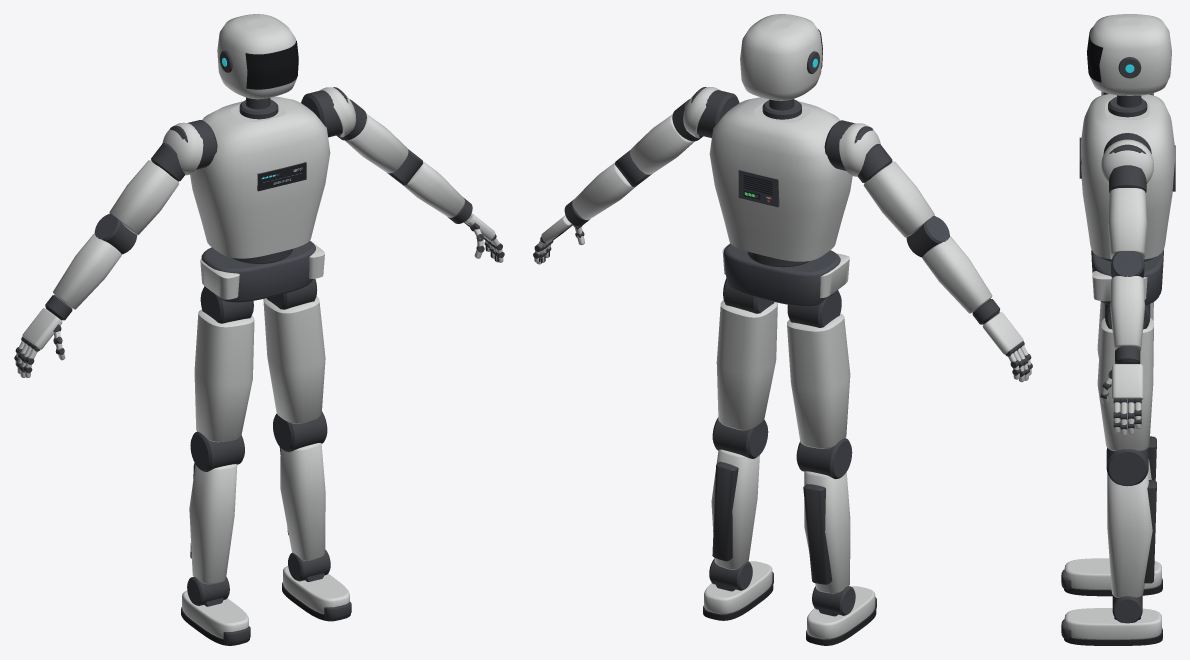
The model's file is robot.glb.
3 renders of one model, left to right at view 1: azimuth 30°, elevation 25°; view 2: azimuth 150°, elevation 25°; view 3: azimuth 270°, elevation 25°, orthographic.
Parts seen in each view (by area): view 1: Torso cover, Thigh cover right, Arm covers right, Thigh cover left, Shank cover right, Shank cover left, Arm covers left, Head shell, Pelvis, Shoulder and elbow actuators right, Ankle and knee actuators right, Ankle and knee actuators left (+11 smaller); view 2: Torso cover, Thigh cover right, Arm covers right, Thigh cover left, Head shell, Arm covers left, Pelvis, Shank cover right, Shoulder and elbow actuators right, Shank cover left, Ankle and knee actuators right, Ankle and knee actuators left (+12 smaller); view 3: Torso cover, Arm covers left, Head shell, Shank cover left, Thigh cover left, Foot left, Shoulder and elbow actuators left, Hand left, Ankle and knee actuators left, Foot right, Pelvis, Neck actuators (+8 smaller).
Part boxes in pixels (x1=…): Torso cover: x1=190, y1=96, x2=330, y2=258; Thigh cover right: x1=194, y1=309, x2=254, y2=442; Arm covers right: x1=53, y1=122, x2=203, y2=309; Thigh cover left: x1=263, y1=296, x2=325, y2=423; Shank cover right: x1=189, y1=464, x2=237, y2=584; Shank cover left: x1=280, y1=443, x2=325, y2=560; Arm covers left: x1=320, y1=87, x2=464, y2=217; Head shell: x1=217, y1=14, x2=296, y2=99; Pelvis: x1=201, y1=241, x2=315, y2=302; Shoulder and elbow actuators right: x1=45, y1=120, x2=217, y2=320; Ankle and knee actuators right: x1=187, y1=431, x2=244, y2=606; Ankle and knee actuators left: x1=273, y1=411, x2=330, y2=581; Torso cover: x1=709, y1=97, x2=852, y2=261; Thigh cover right: x1=787, y1=313, x2=850, y2=448; Arm covers right: x1=839, y1=123, x2=992, y2=313; Thigh cover left: x1=716, y1=300, x2=777, y2=430; Head shell: x1=740, y1=14, x2=822, y2=100; Arm covers left: x1=572, y1=87, x2=720, y2=219; Pelvis: x1=724, y1=243, x2=840, y2=306; Shank cover right: x1=804, y1=471, x2=850, y2=593; Shoulder and elbow actuators right: x1=824, y1=120, x2=999, y2=324; Shank cover left: x1=711, y1=449, x2=759, y2=569; Ankle and knee actuators right: x1=796, y1=438, x2=855, y2=616; Ankle and knee actuators left: x1=709, y1=417, x2=768, y2=591; Torso cover: x1=1081, y1=94, x2=1174, y2=259; Arm covers left: x1=1101, y1=139, x2=1153, y2=350; Head shell: x1=1089, y1=14, x2=1171, y2=95; Shank cover left: x1=1107, y1=473, x2=1152, y2=597; Thigh cover left: x1=1097, y1=318, x2=1153, y2=451; Foot left: x1=1061, y1=608, x2=1162, y2=645; Shoulder and elbow actuators left: x1=1103, y1=133, x2=1151, y2=363; Hand left: x1=1100, y1=360, x2=1143, y2=435; Ankle and knee actuators left: x1=1106, y1=448, x2=1148, y2=623; Foot right: x1=1061, y1=558, x2=1162, y2=596; Pelvis: x1=1091, y1=250, x2=1163, y2=304; Neck actuators: x1=1108, y1=95, x2=1147, y2=117.
Bounding box in the file's own units: 1.49 × 1.73 × 0.3027.
Materials: 7 (7 with a texture image).
